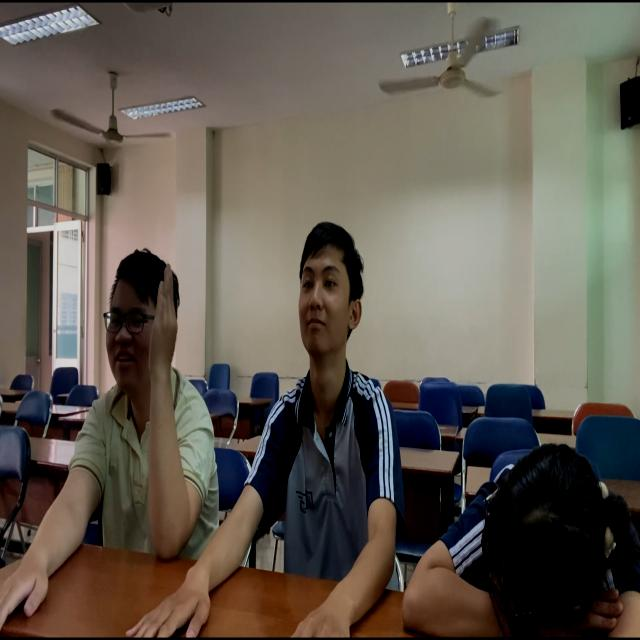raise_hand: (70, 228, 219, 565)
sleep: (412, 436, 640, 640)
